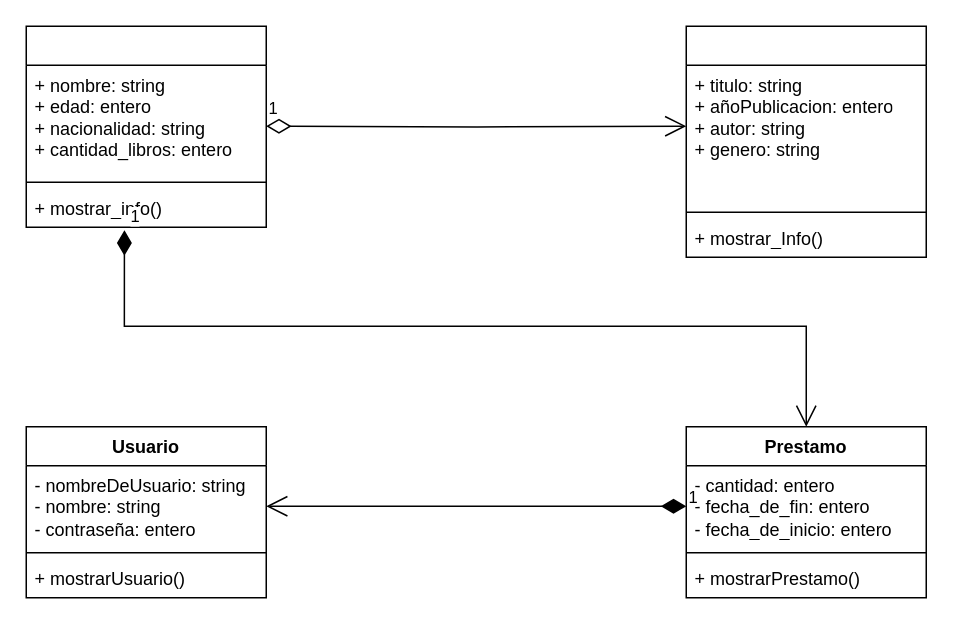
The diagram is 953 pixels wide and 629 high, and some of its shapes have lost their labels. Each missing label, with the box of its shape:
Autor: (25, 25, 266, 227)
Libro: (685, 25, 926, 257)
